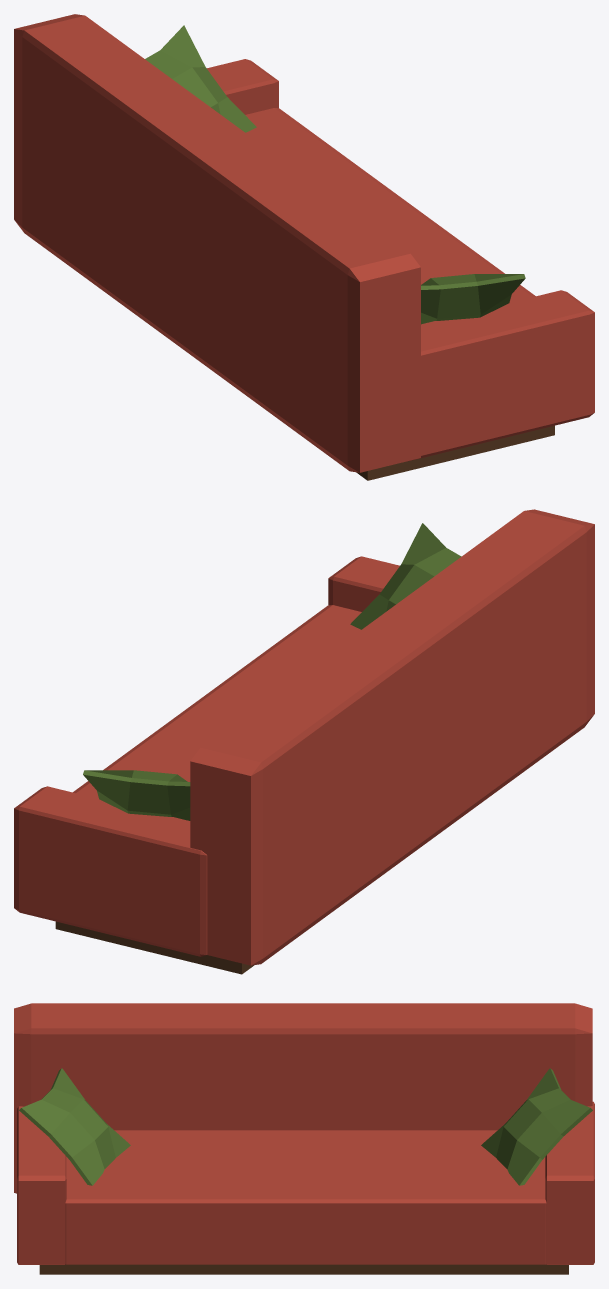
Rendered from diivan.fbx.
The picture shows the model from 3 angles, top to bottom: view 1: azimuth 30°, elevation 25°; view 2: azimuth 150°, elevation 25°; view 3: azimuth 270°, elevation 25°; orthographic projection. The views are drawn at different scales.
Visible parts, largest first — view 1: Cube.002; view 2: Cube.002; view 3: Cube.002.
Boxes of the visible parts, bbox=[...] form: Cube.002: bbox=[14, 14, 594, 480]; Cube.002: bbox=[14, 509, 594, 974]; Cube.002: bbox=[14, 1003, 594, 1274].
Bounding box in the file's own units: 180 × 159 × 452.
